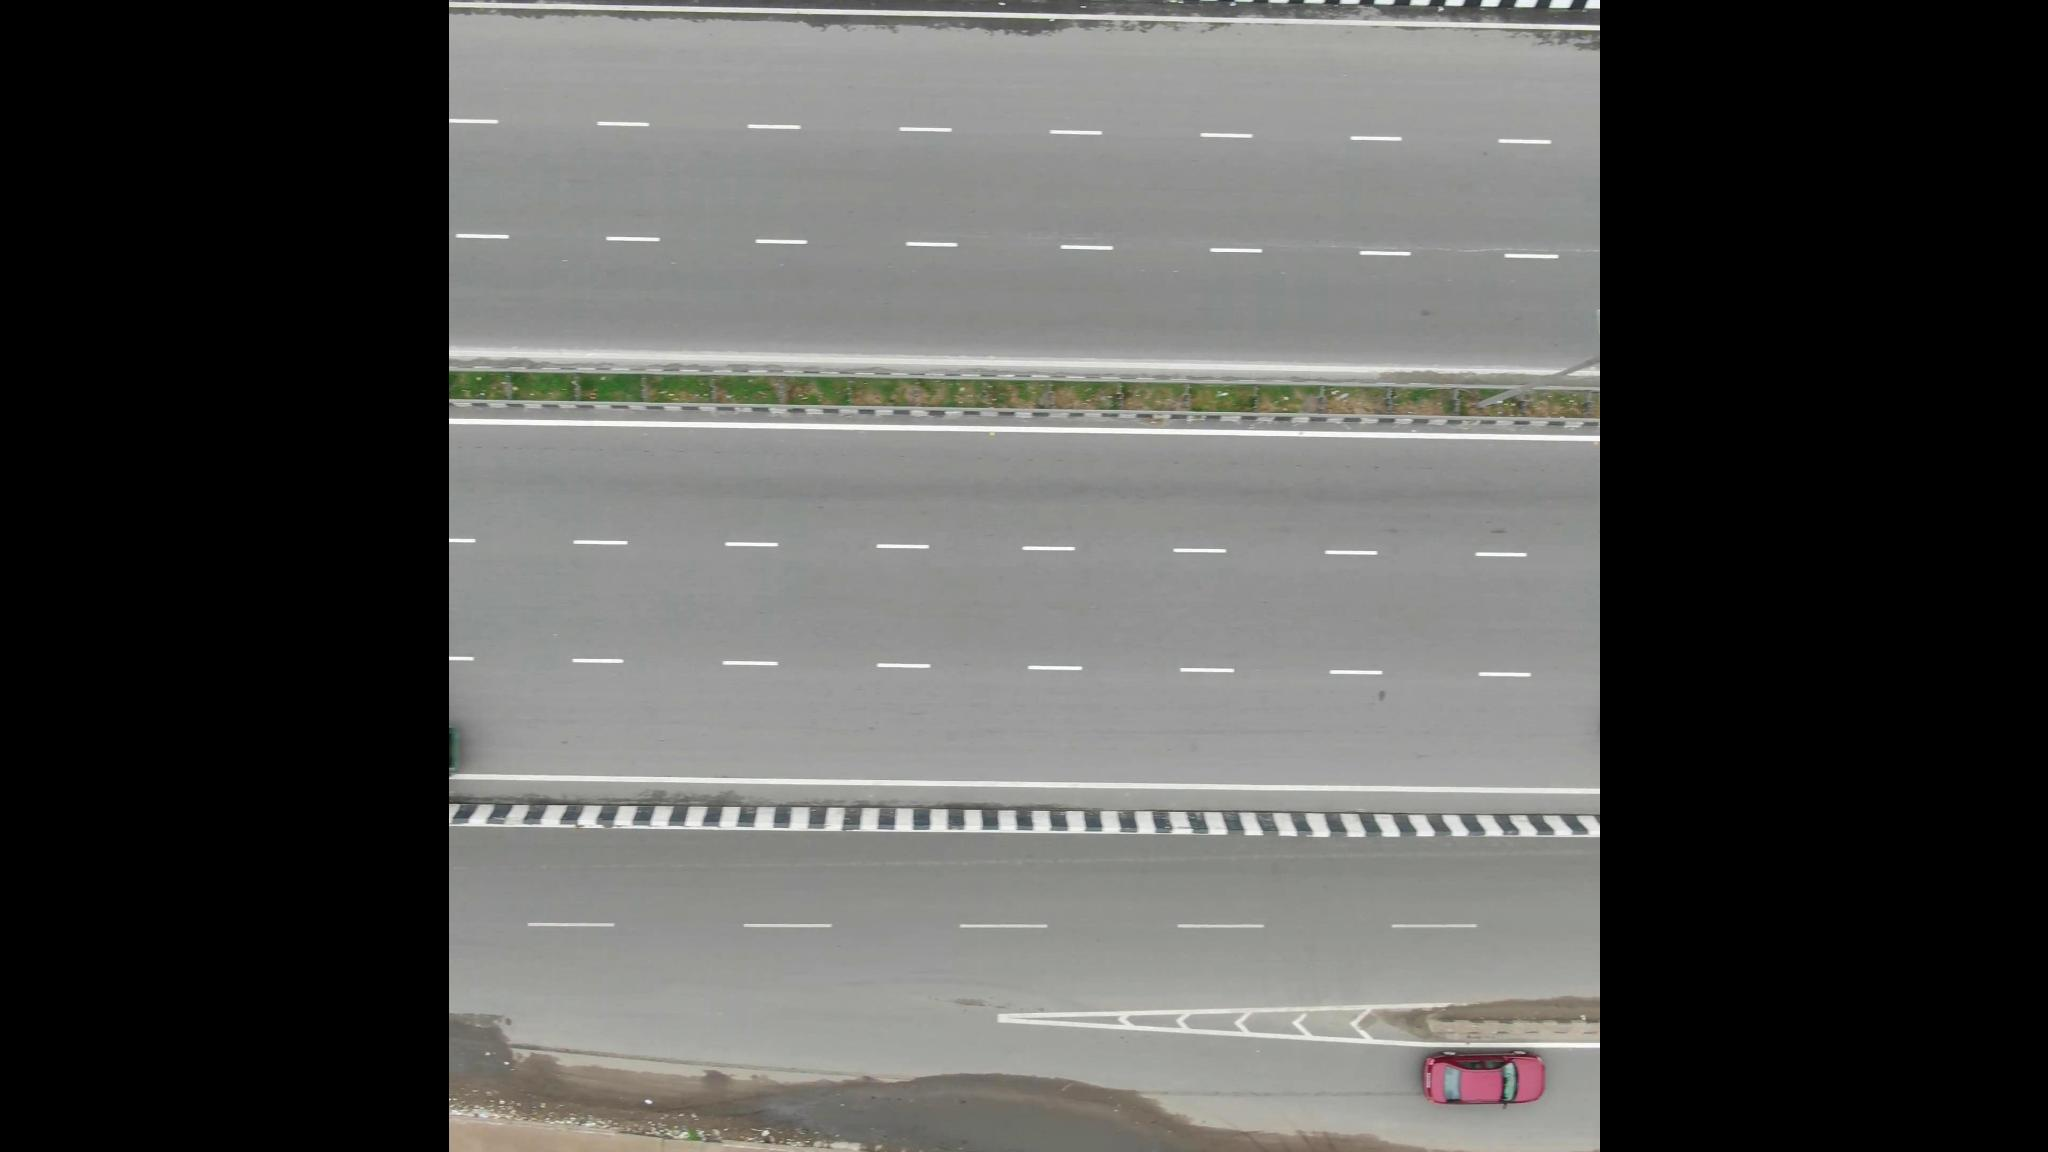Muddy_road: (1288, 1124, 1504, 1152)
Waterlogging: (845, 1068, 1227, 1152)
